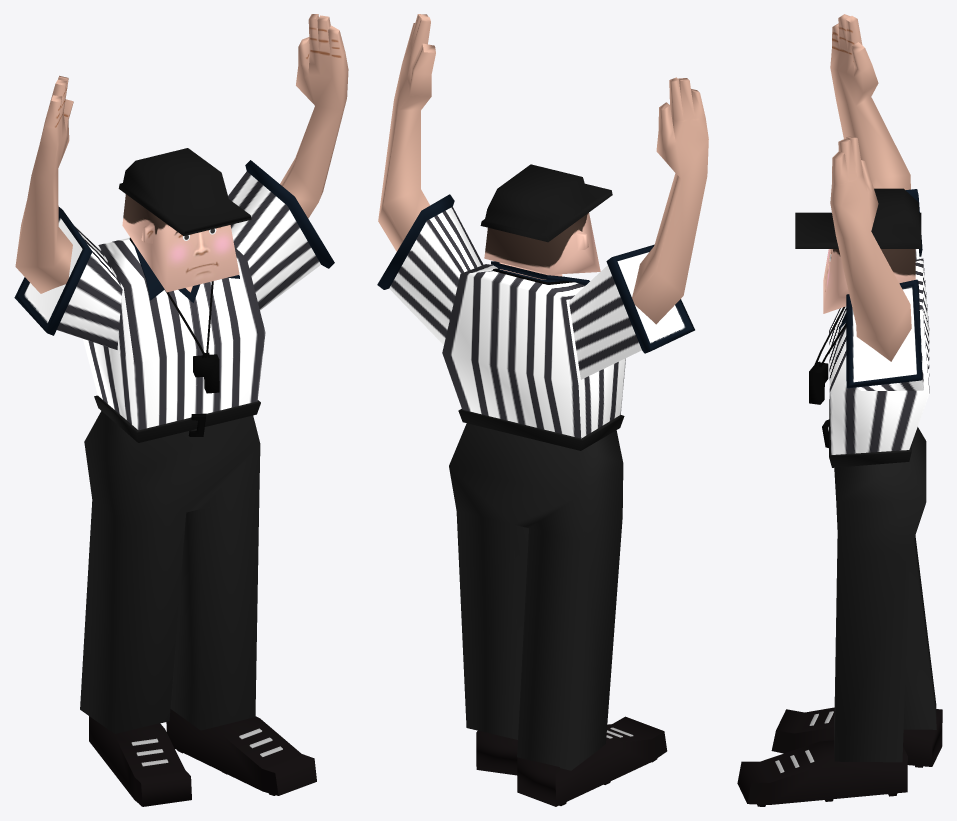
File: Arbitre.glb
3 views of the same model, side by side, from view 1: azimuth 30°, elevation 25°; view 2: azimuth 150°, elevation 25°; view 3: azimuth 270°, elevation 25° (orthographic). The views are drawn at different scales.
Parts seen in each view (by area): view 1: Referee.1; view 2: Referee.1; view 3: Referee.1.
Boxes of the visible parts, x1,y1,x2,y2 form: Referee.1: (14, 14, 348, 806); Referee.1: (377, 14, 708, 806); Referee.1: (737, 14, 942, 806).
Size of the model in its own units: 0.0635 by 0.1386 by 0.0369.
Materials: 1 (1 with a texture image).
